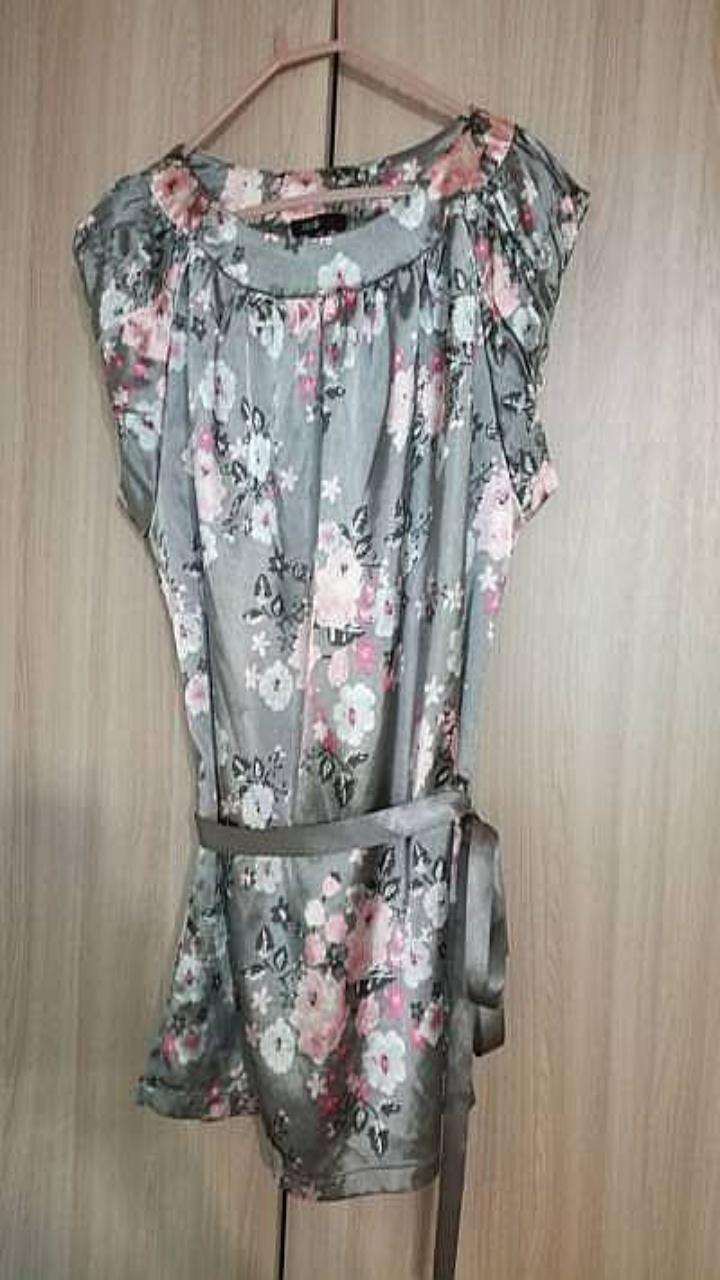Dresses: (73, 107, 588, 829)
